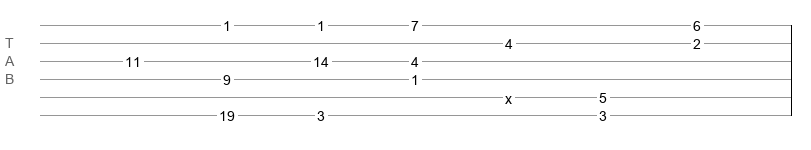1: (223, 18, 231, 28), (317, 18, 325, 28), (411, 72, 419, 82)
11: (125, 54, 141, 64)
14: (313, 54, 329, 64)
19: (219, 108, 235, 118)
2: (693, 36, 701, 46)
3: (317, 108, 325, 118), (599, 108, 607, 118)
4: (411, 54, 419, 64), (505, 36, 513, 46)
5: (599, 90, 607, 100)
6: (693, 18, 701, 28)
7: (411, 18, 419, 28)
9: (223, 72, 231, 82)
x: (505, 91, 512, 99)
